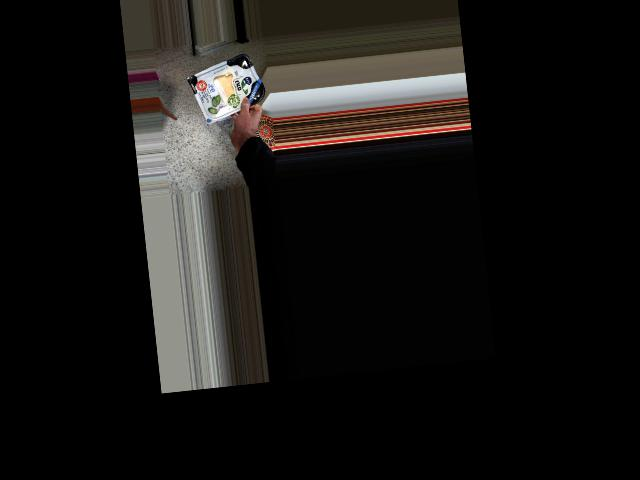cheese: (195, 61, 260, 114)
